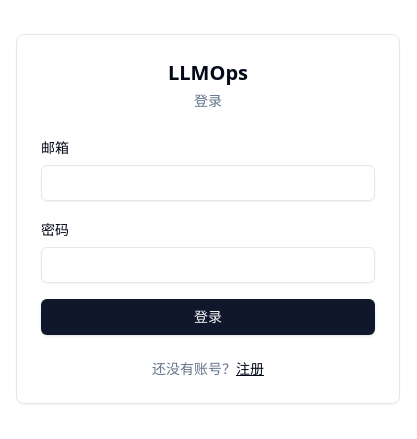
Scenario: LoginPage › 登录失败 → 显示后端错误信息
In the field labelled "邮箱": (208, 183) [41,165,375,201], type "a@b.com"
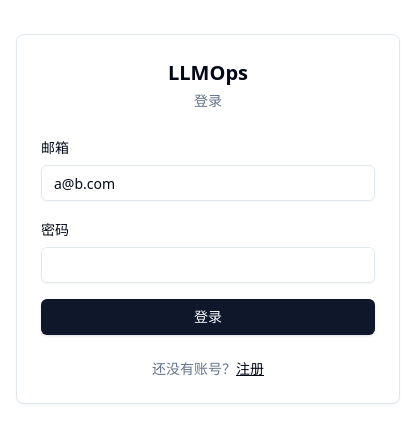
In the password field labelled "密码": (208, 265) [41,247,375,283], type "secret"
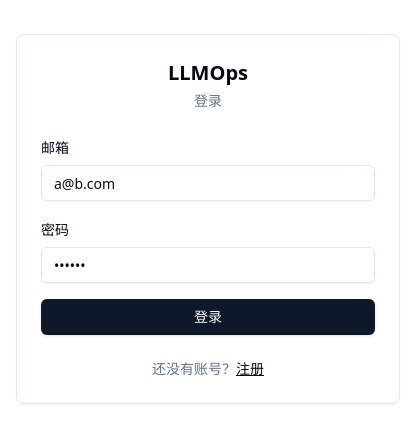
Click the button "登录": (208, 317) [41,299,375,335]
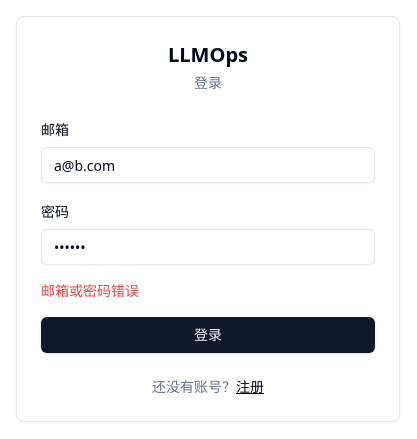
Check: the message reads "邮箱或密码错误", box [41,281,139,300]
